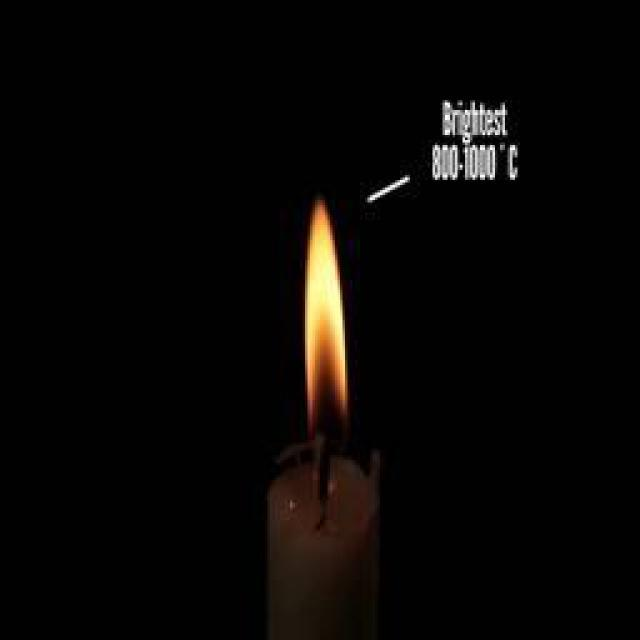Fire: (301, 204, 349, 414)
